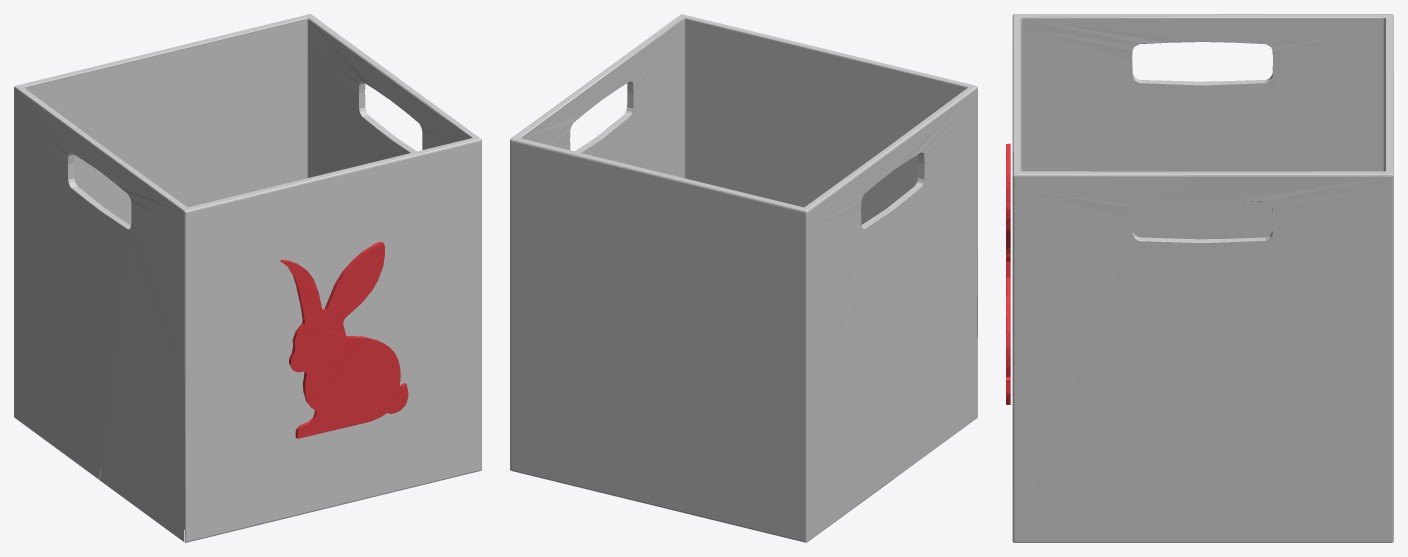
Rendered from SoftBox2V2.fbx.
The picture shows the model from 3 angles, left to right: view 1: azimuth 30°, elevation 25°; view 2: azimuth 150°, elevation 25°; view 3: azimuth 270°, elevation 25°; orthographic projection. The views are drawn at different scales.
Visible parts, largest first — view 1: Girl_Export.005; view 2: Girl_Export.005; view 3: Girl_Export.005.
Boxes of the visible parts, x1,y1,x2,y2 form: Girl_Export.005: [14, 14, 481, 542]; Girl_Export.005: [510, 14, 977, 542]; Girl_Export.005: [1006, 14, 1393, 542].
Bounding box in the file's own units: 3.2 × 3.25 × 3.41.
